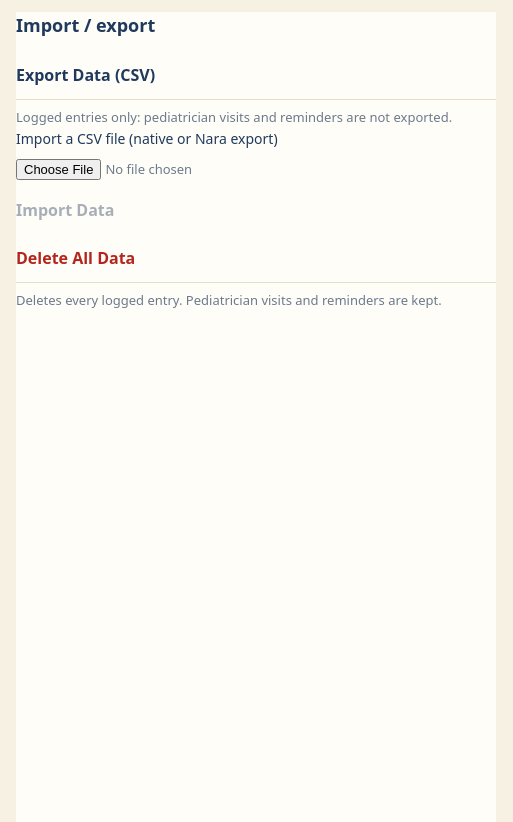
ExportImportSection › exports and downloads a CSV file, then shows a success message
Step 1. Click the button "Export Data (CSV)" → (86, 75), box [16, 51, 496, 100]
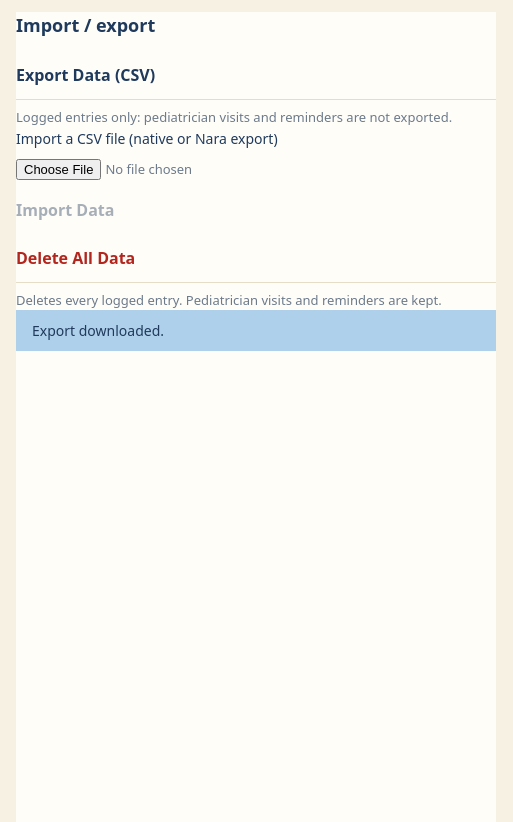
Result: the message reads "Export downloaded." at [32, 321, 164, 340]
